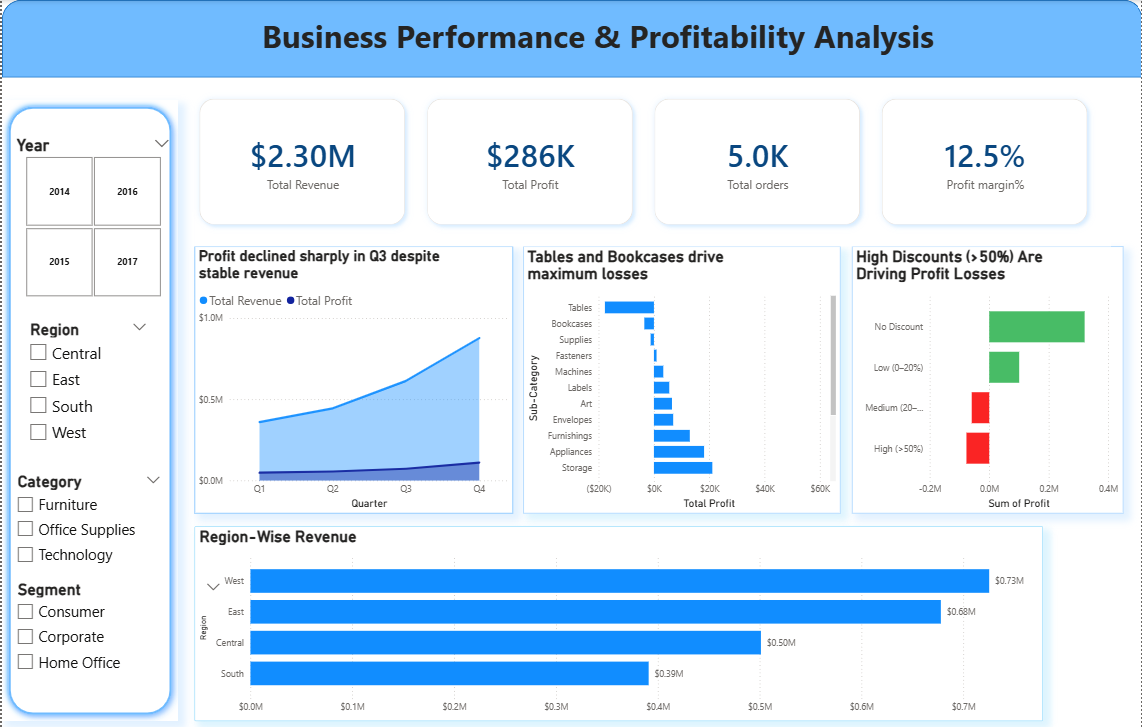

The dashboard page shown, as its layout file describes it:
{"tool":"powerbi","page":{"name":"Overview","canvas":[1550,1000],"ordinal":0},"visuals":[{"type":"lineChart","title":"Profit declined sharply in Q3 despite stable revenue","fields":{"Y":["_measures.Total Revenue","_measures.Total Profit"],"Category":["SampleSuperstore_clean1 csv.Year Hierarchy.Year","SampleSuperstore_clean1 csv.Year Hierarchy.Quarter","SampleSuperstore_clean1 csv.Year Hierarchy.month"]},"box":[261.6,334.6,433.1,363.5],"z":0},{"type":"clusteredBarChart","title":"Tables and Bookcases drive maximum losses","fields":{"Y":["_measures.Total Profit"],"Category":["SampleSuperstore_clean1 csv.Sub-Category"]},"box":[708.2,334.6,431.4,363.5],"z":1000},{"type":"barChart","title":"High Discounts (>50%) Are Driving Profit Losses","fields":{"Y":["Sum(SampleSuperstore_clean1 csv.Profit)"],"Category":["SampleSuperstore_clean1 csv.Discount Bucket"]},"box":[1154.9,334.6,368.5,363.5],"z":2000},{"type":"cardVisual","fields":{"Data":["_measures.Total Revenue","_measures.Total Profit","_measures.Total orders","_measures.Profit margin%"]},"box":[239.5,105.3,1267,229.3],"z":3000},{"type":"shape","box":[0,0,1550.6,105.3],"z":4000},{"type":"textbox","box":[348.2,13.6,1127.7,79.8],"z":5000},{"type":"shape","box":[0,135.9,239.5,844.1],"z":6000},{"type":"clusteredBarChart","title":" Region-Wise Revenue","fields":{"Y":["_measures.Total Revenue"],"Category":["SampleSuperstore_clean1 csv.Region"]},"box":[261.6,715,1153.2,264.9],"z":7000},{"type":"slicer","title":"Year","fields":{"Values":["SampleSuperstore_clean1 csv.Year"]},"box":[6.8,178.3,232.7,231],"z":8000},{"type":"slicer","fields":{"Values":["SampleSuperstore_clean1 csv.Region"]},"box":[25.5,429.7,183.4,207.2],"z":9000},{"type":"slicer","fields":{"Values":["SampleSuperstore_clean1 csv.Category"]},"box":[8.5,636.9,219.1,197],"z":10000},{"type":"slicer","fields":{"Values":["SampleSuperstore_clean1 csv.Segment"]},"box":[8.5,783,300.6,168.1],"z":11000}]}

Visuals, with their boxes in screenshot pixels (x1, y1, x2, y2), scaled from the page's 1550x1000 canvas onto the 1142x727 screenshot:
"Profit declined sharply in Q3 despite stable revenue" lineChart: (193, 243, 512, 508)
"Tables and Bookcases drive maximum losses" clusteredBarChart: (522, 243, 840, 508)
"High Discounts (>50%) Are Driving Profit Losses" barChart: (851, 243, 1122, 508)
cardVisual - _measures.Total Revenue x _measures.Total Profit: (176, 77, 1110, 243)
shape: (0, 0, 1141, 77)
textbox: (257, 10, 1087, 68)
shape: (0, 99, 176, 712)
" Region-Wise Revenue" clusteredBarChart: (193, 520, 1042, 712)
"Year" slicer: (5, 130, 176, 298)
slicer - SampleSuperstore_clean1 csv.Region: (19, 312, 154, 463)
slicer - SampleSuperstore_clean1 csv.Category: (6, 463, 168, 606)
slicer - SampleSuperstore_clean1 csv.Segment: (6, 569, 228, 691)
